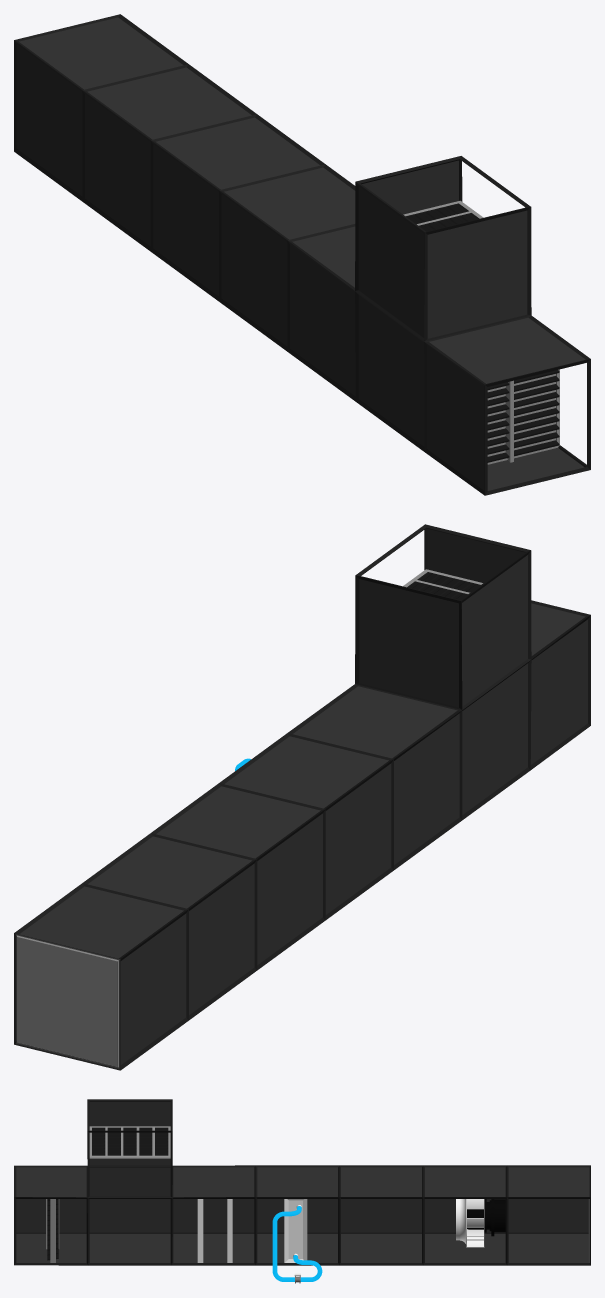
Rendered from hvac-static3.glb.
The picture shows the model from 3 angles, top to bottom: view 1: azimuth 30°, elevation 25°; view 2: azimuth 150°, elevation 25°; view 3: azimuth 270°, elevation 25°; orthographic projection. The views are drawn at different scales.
Parts seen in each view (by area): view 1: Cube.015, Cube.016, Cube.012, Cube.011, Cube.013; view 2: Cube.015, Cube.016, Cube.017, Cube.013; view 3: Cube.015, Cube.016, Cube.013, Body68.001, Body68, Cube.004, Torus.001, Cube.002, Cube.011, Cube.003, Cube.012, Cube.009.
Boxes of the visible parts, box(x1,y1,x2,y2) form: Cube.015: box(16, 17, 585, 490); Cube.016: box(14, 14, 590, 495); Cube.012: box(487, 370, 559, 462); Cube.011: box(487, 369, 559, 464); Cube.013: box(403, 200, 483, 231); Cube.015: box(15, 529, 587, 1068); Cube.016: box(14, 524, 590, 1070); Cube.017: box(16, 935, 118, 1067); Cube.013: box(403, 569, 482, 600); Cube.015: box(16, 1101, 589, 1262); Cube.016: box(14, 1099, 590, 1265); Cube.013: box(89, 1126, 170, 1158); Body68.001: box(456, 1199, 484, 1247); Body68: box(467, 1199, 505, 1236); Cube.004: box(288, 1200, 302, 1258); Torus.001: box(272, 1211, 322, 1281); Cube.002: box(284, 1199, 307, 1262); Cube.011: box(46, 1199, 59, 1262); Cube.003: box(197, 1199, 203, 1262); Cube.012: box(47, 1199, 58, 1260); Cube.009: box(227, 1199, 232, 1262).
Size of the model in its own units: 2.54 by 4.42 by 15.74.
Materials: 17 (5 with a texture image).
